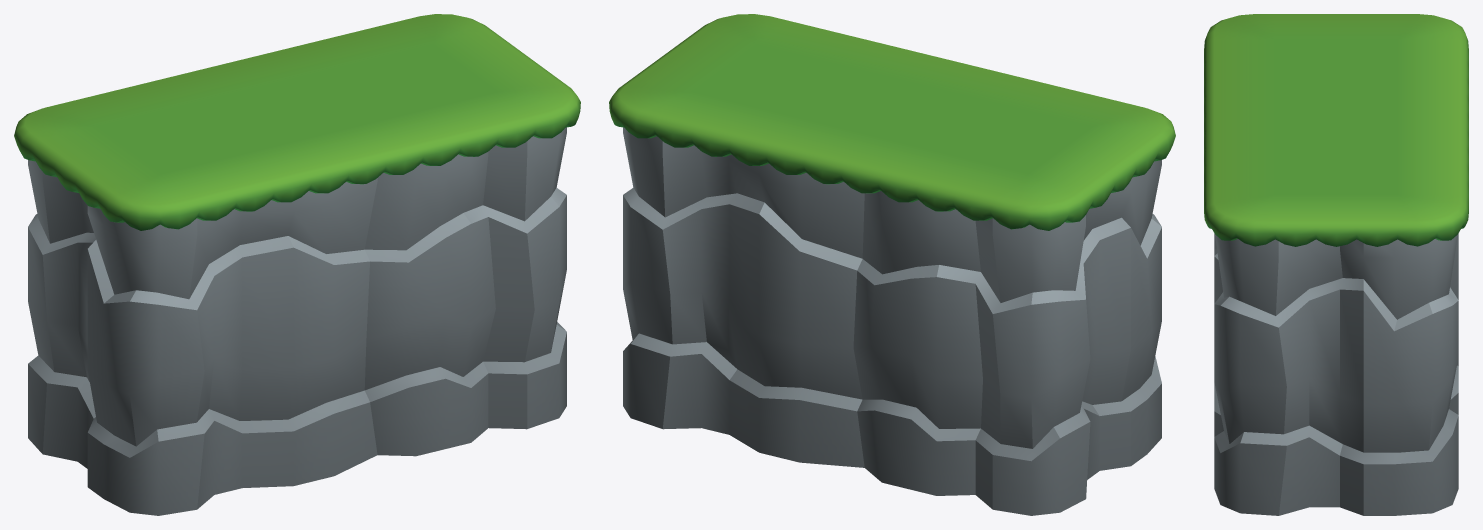
File: Hill_12x6x8_Color1.gltf
3 renders of one model, left to right at view 1: azimuth 30°, elevation 25°; view 2: azimuth 150°, elevation 25°; view 3: azimuth 270°, elevation 25°, orthographic. The views are drawn at different scales.
Parts seen in each view (by area): view 1: Hill_12x6x8_Color1; view 2: Hill_12x6x8_Color1; view 3: Hill_12x6x8_Color1.
Part boxes in pixels (box(x1,y1,x2,y2)): Hill_12x6x8_Color1: box(14, 14, 580, 515); Hill_12x6x8_Color1: box(609, 14, 1175, 515); Hill_12x6x8_Color1: box(1204, 14, 1468, 515).
Bounding box in the file's own units: 12.5 × 8 × 6.5.
Materials: 1 (1 with a texture image).
